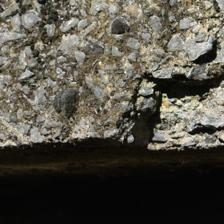Crack: (55, 33, 166, 112)
